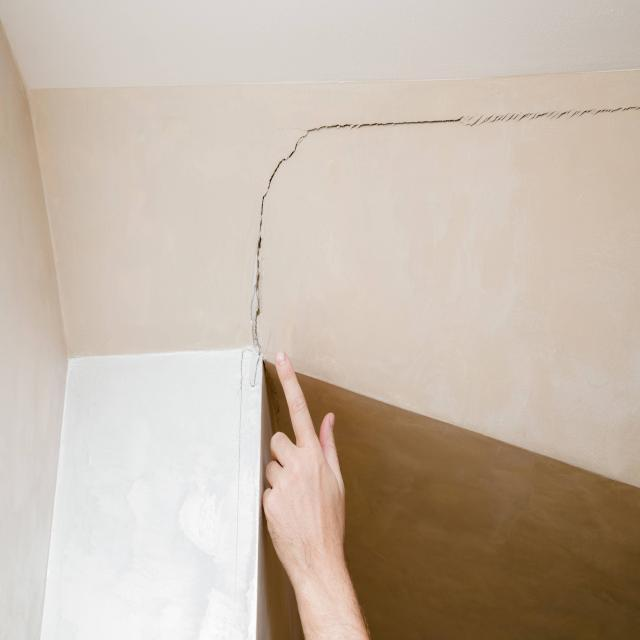Crack: (248, 128, 316, 357), (316, 104, 640, 132)
